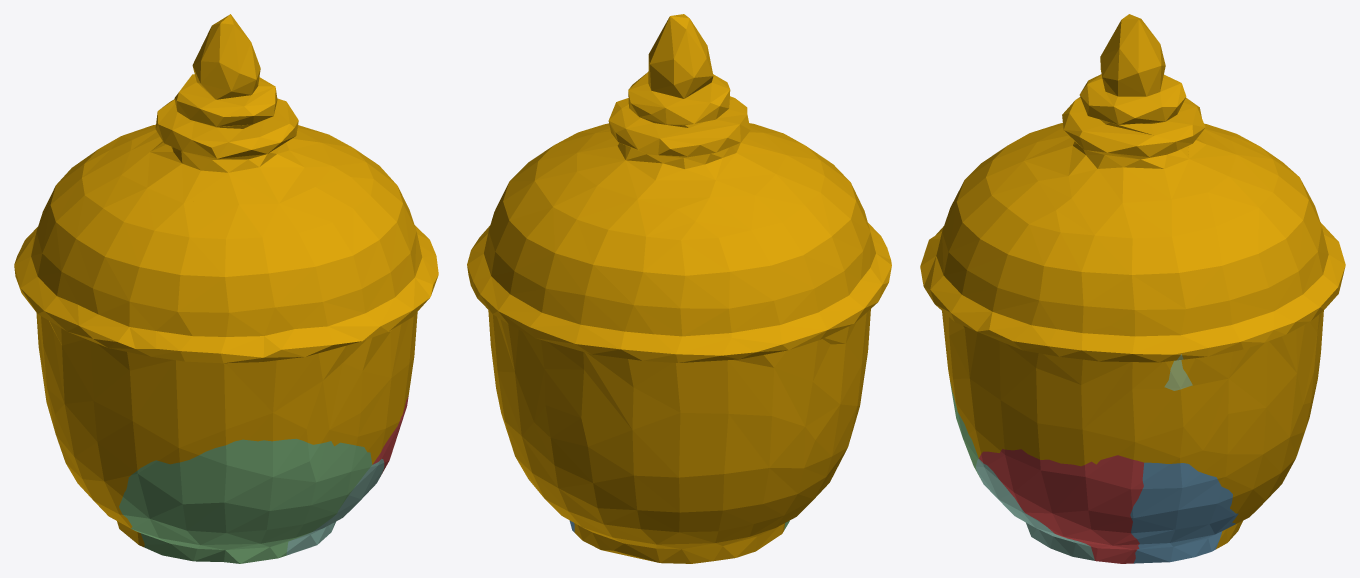
The model's file is fractured_23_6pcs.glb.
3 views of the same model, side by side, from view 1: azimuth 30°, elevation 25°; view 2: azimuth 150°, elevation 25°; view 3: azimuth 270°, elevation 25° (orthographic).
Parts seen in each view (by area): view 1: piece_0.obj, piece_3.obj, piece_4.obj; view 2: piece_0.obj; view 3: piece_0.obj, piece_1.obj, piece_2.obj, piece_4.obj, piece_5.obj.
Boxes of the visible parts, x1=… form: piece_0.obj: x1=14, y1=14, x2=438, y2=547; piece_3.obj: x1=119, y1=438, x2=372, y2=563; piece_4.obj: x1=286, y1=459, x2=384, y2=555; piece_0.obj: x1=467, y1=14, x2=891, y2=563; piece_0.obj: x1=920, y1=14, x2=1345, y2=549; piece_1.obj: x1=979, y1=449, x2=1143, y2=563; piece_2.obj: x1=1130, y1=462, x2=1238, y2=563; piece_4.obj: x1=976, y1=459, x2=1094, y2=560; piece_5.obj: x1=1164, y1=354, x2=1192, y2=390.
Size of the model in its own units: 0.7658 by 1 by 0.767.
